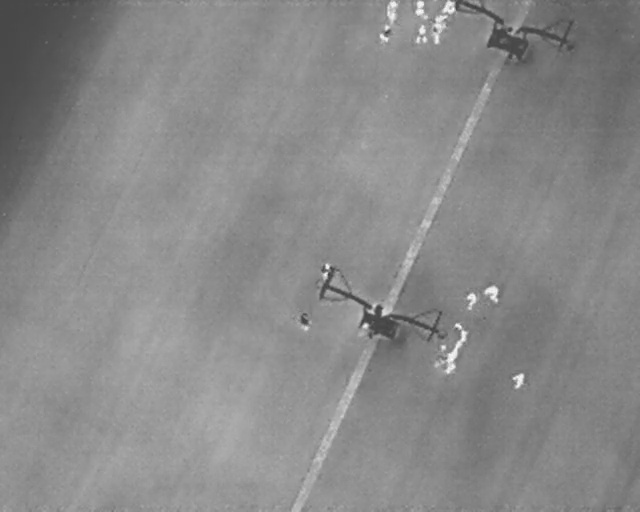Person: (444, 343, 462, 373), (414, 24, 429, 44), (386, 0, 399, 23), (378, 23, 392, 44), (415, 0, 429, 21), (485, 283, 499, 304), (456, 320, 469, 342), (298, 312, 312, 332), (512, 371, 525, 390), (435, 13, 449, 30), (430, 26, 442, 45), (432, 354, 447, 368), (466, 291, 476, 310), (321, 261, 330, 282), (443, 0, 456, 13)
